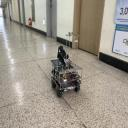cart: (50, 60, 83, 98)
